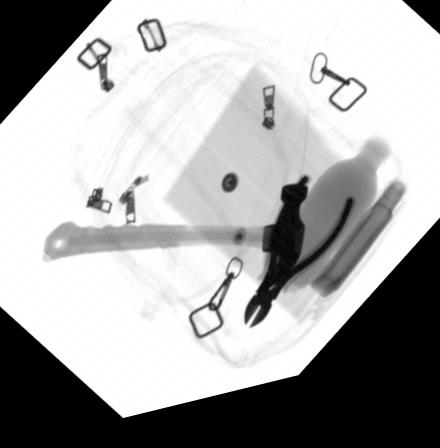Hammer: (40, 198, 307, 307)
Pliers: (243, 192, 355, 341)
